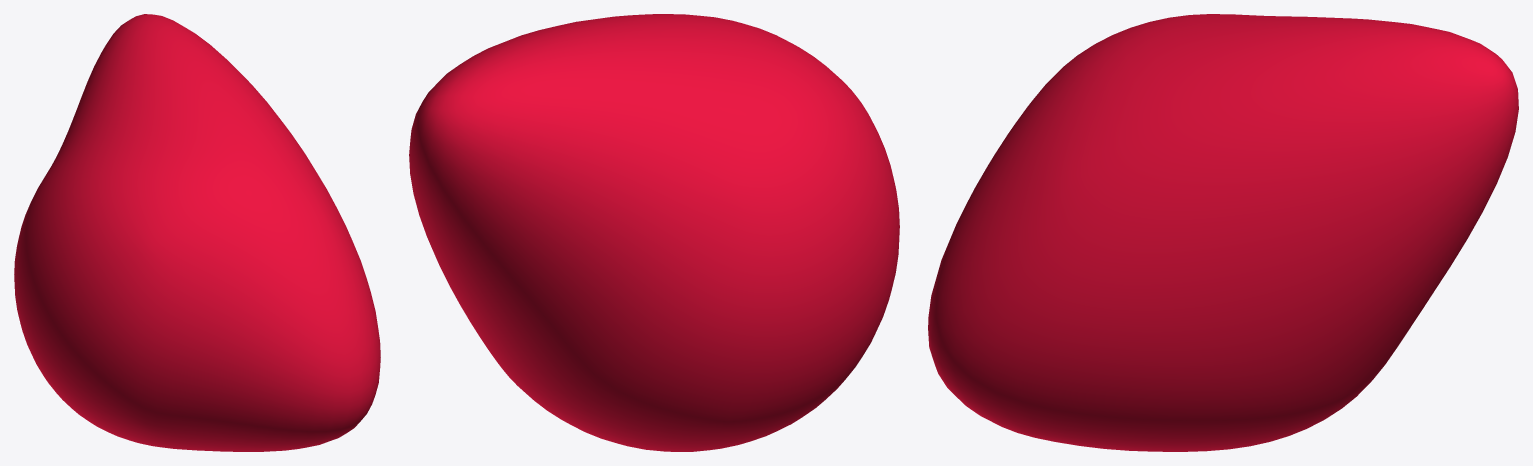
Rendered from EssaiShapeKeySphere_VR.fbx.
3 renders of one model, left to right at view 1: azimuth 30°, elevation 25°; view 2: azimuth 150°, elevation 25°; view 3: azimuth 270°, elevation 25°, orthographic. The views are drawn at different scales.
Parts seen in each view (by area): view 1: Cube; view 2: Cube; view 3: Cube.
Part boxes in pixels (bbox=[...]): Cube: bbox=[14, 14, 380, 451]; Cube: bbox=[409, 14, 899, 451]; Cube: bbox=[928, 14, 1518, 451].
Bounding box in the file's own units: 166 × 182 × 229.
